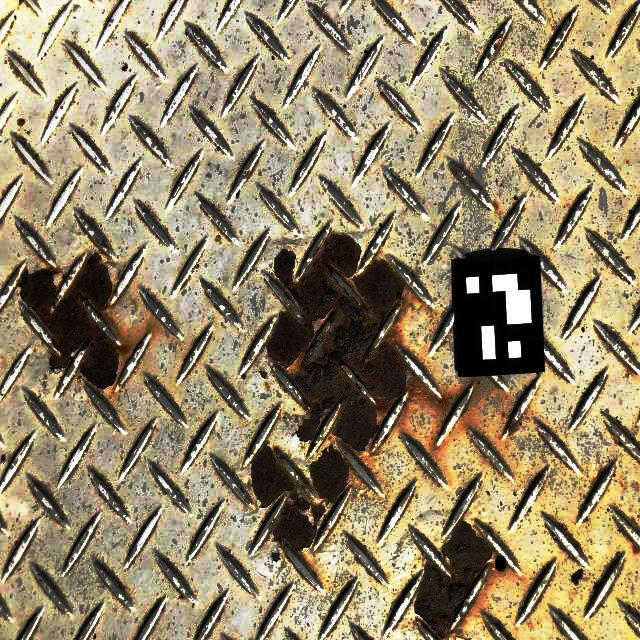Corrosion: (264, 232, 455, 463), (19, 251, 128, 392), (248, 437, 360, 558), (411, 518, 497, 640), (502, 412, 519, 437), (488, 41, 501, 62), (269, 550, 283, 564), (484, 620, 494, 639), (260, 368, 269, 380), (452, 168, 461, 177), (243, 169, 251, 179), (493, 202, 498, 209)
